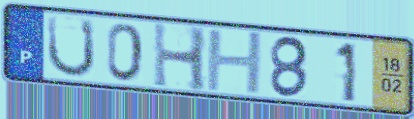0: (106, 22, 146, 83)
1: (333, 40, 359, 103)
8: (268, 34, 310, 100)
H: (151, 19, 210, 95), (204, 28, 266, 96)
U: (45, 14, 98, 80)
